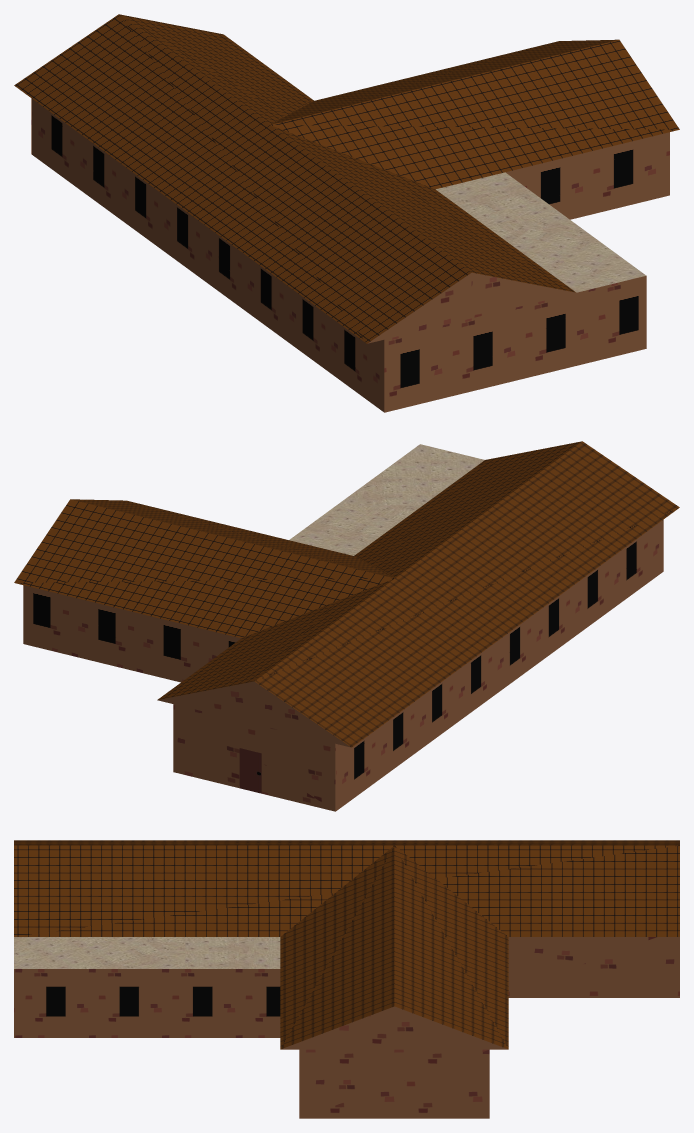
File: milner.obj
3 views of the same model, one above another, from view 1: azimuth 30°, elevation 25°; view 2: azimuth 150°, elevation 25°; view 3: azimuth 270°, elevation 25° (orthographic). The views are drawn at different scales.
Visible parts, largest first — view 1: No_Name; view 2: No_Name; view 3: No_Name.
Part boxes in pixels (x1=…): No_Name: x1=14, y1=14, x2=679, y2=412; No_Name: x1=14, y1=441, x2=679, y2=811; No_Name: x1=14, y1=840, x2=679, y2=1118.
Size of the model in its own units: 26 by 6.5 by 35.
